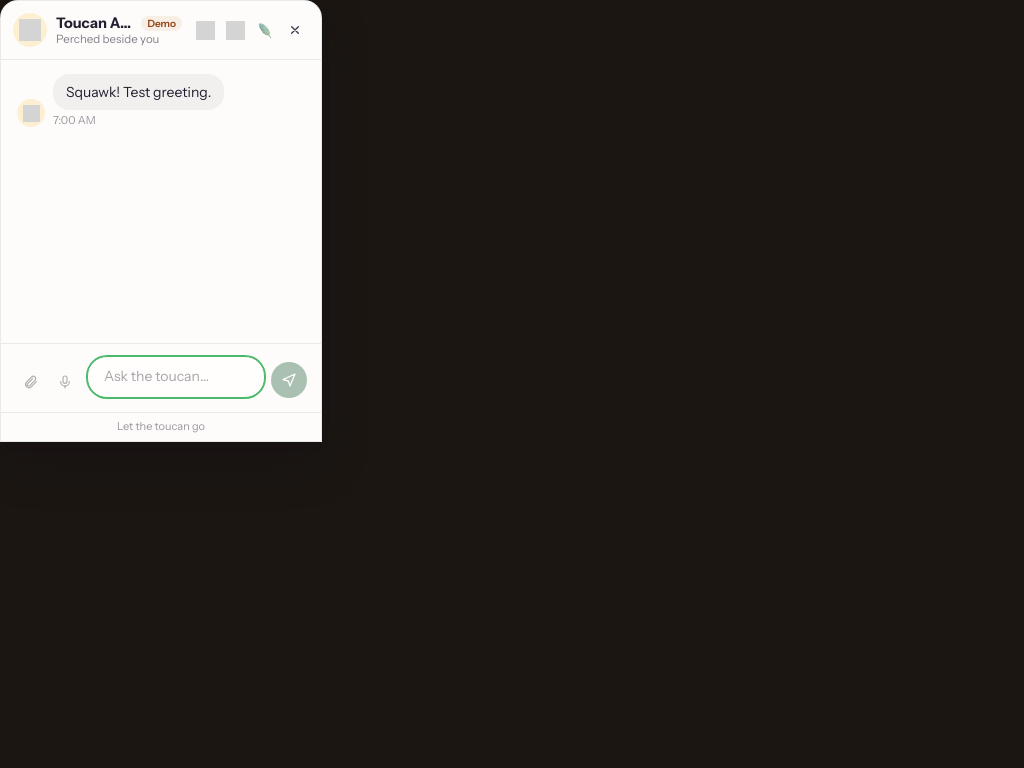
ToucanAssistantPanel — T8 action confirmation › Confirm consumes the id and applies the server-returned frozen effect
Type "Set me to busy." into the text box named "Message the toucan" at [176, 377], box [87,356,265,398]
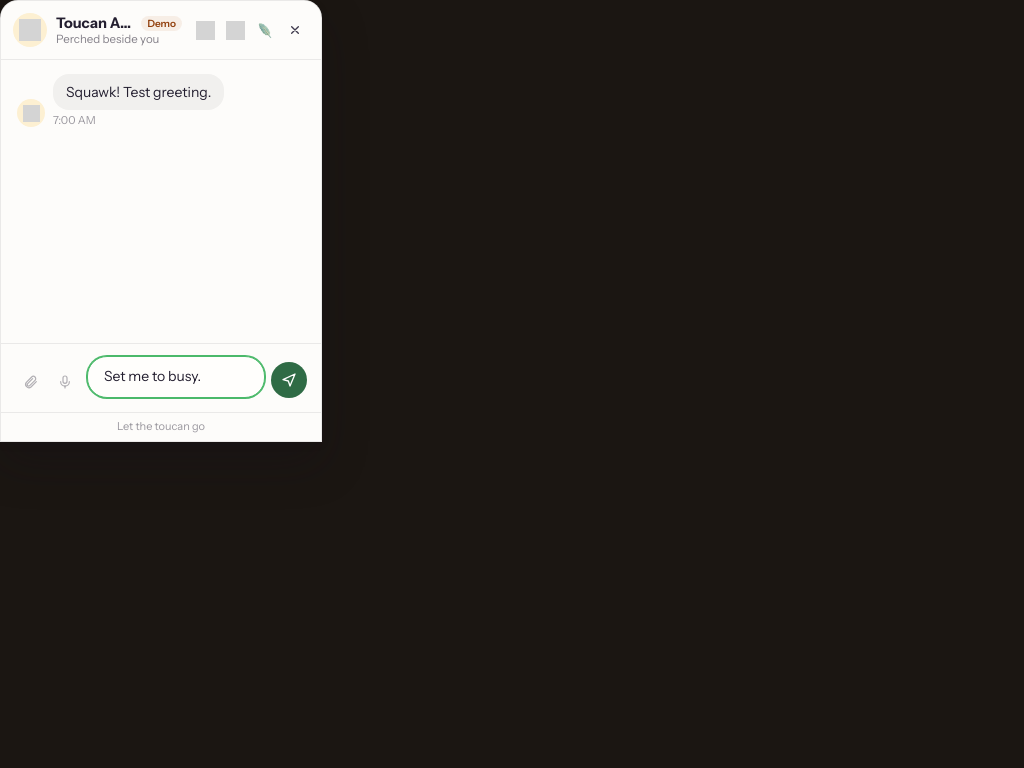
Press Enter in the text box named "Message the toucan", box [87,356,265,398]
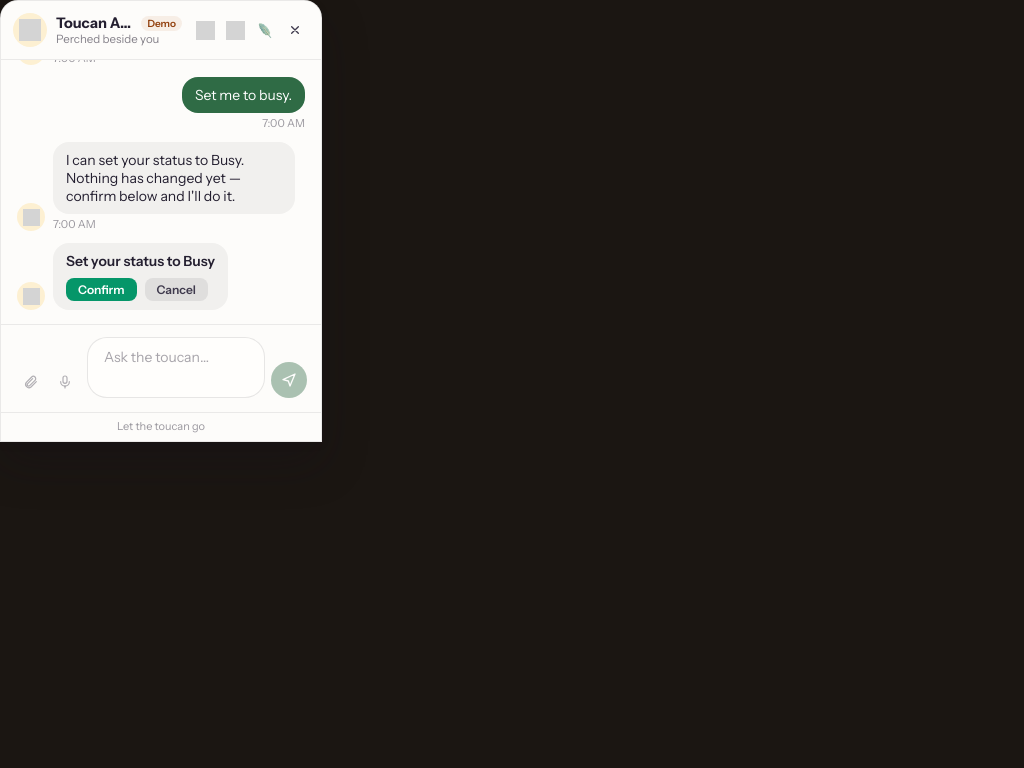
Click the button "Confirm" at [101, 290], box [66,278,136,301]
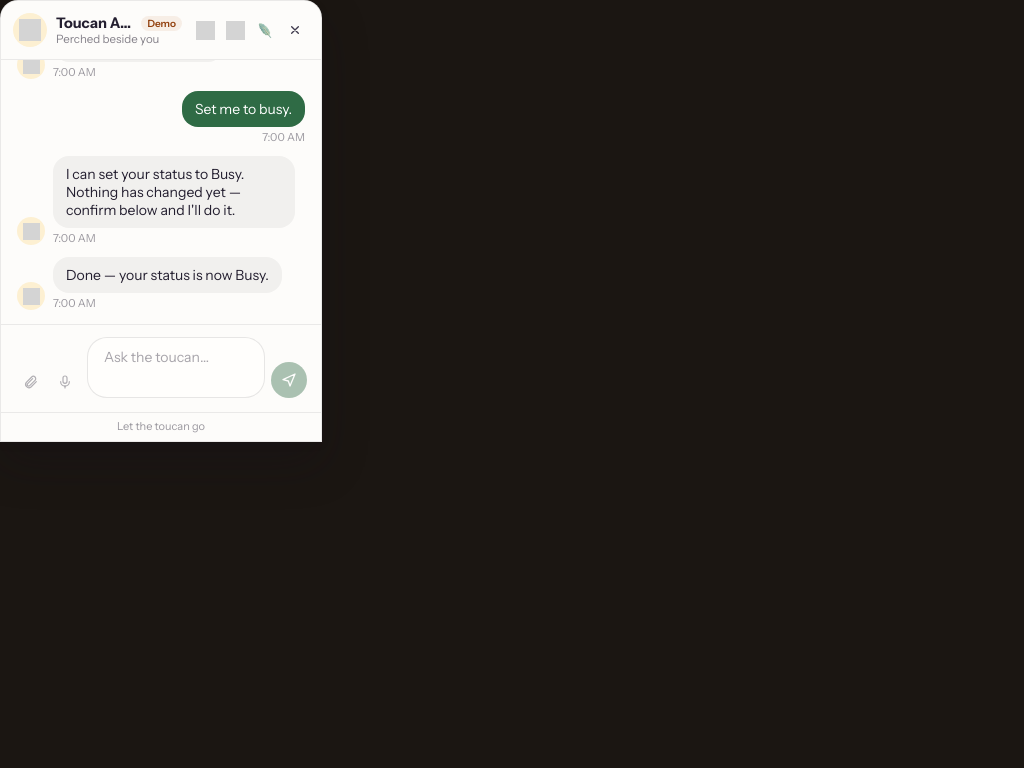
expect the text "Done — your status is now Busy." is shown: met, box [53,257,282,293]
expect the element with test id "toucan-action-card" is gone: met
